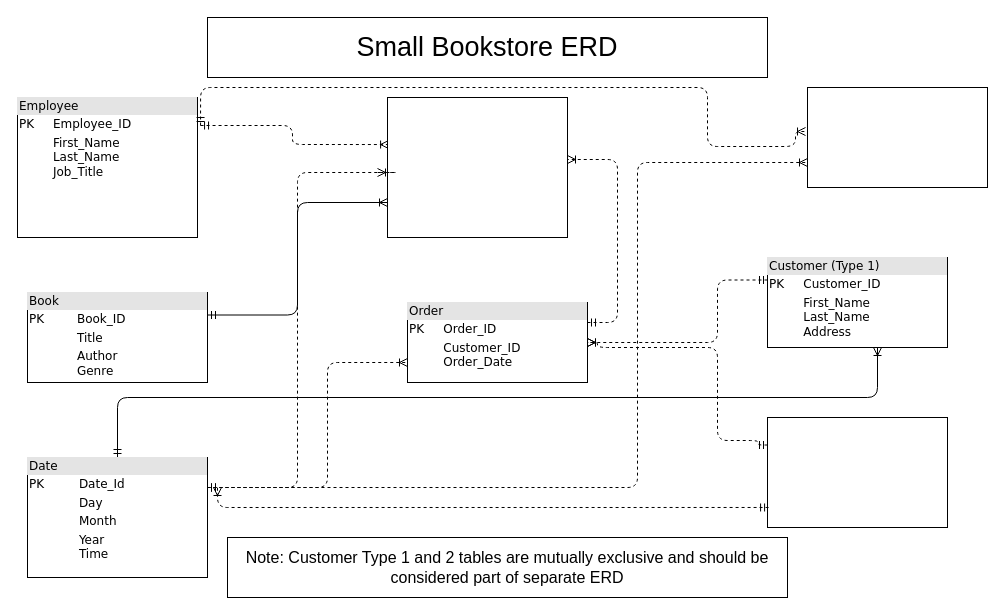
Some shapes in this 1005 by 615 pixel diagram are drawn without their labels. Each missing label, with the box of its shape:
Customer (Type 2) PK Customer_ID PK First_Name Last_Name Address Date: (766, 416, 948, 528)
Employee_Shift PK Shift_ID Employee_ID Shift_Assigned Shift_Date: (806, 86, 988, 188)
Sales PK Sales_ID Employee_ID Order_ID Sales_Date Price Book_ID Quantity: (386, 96, 568, 238)
